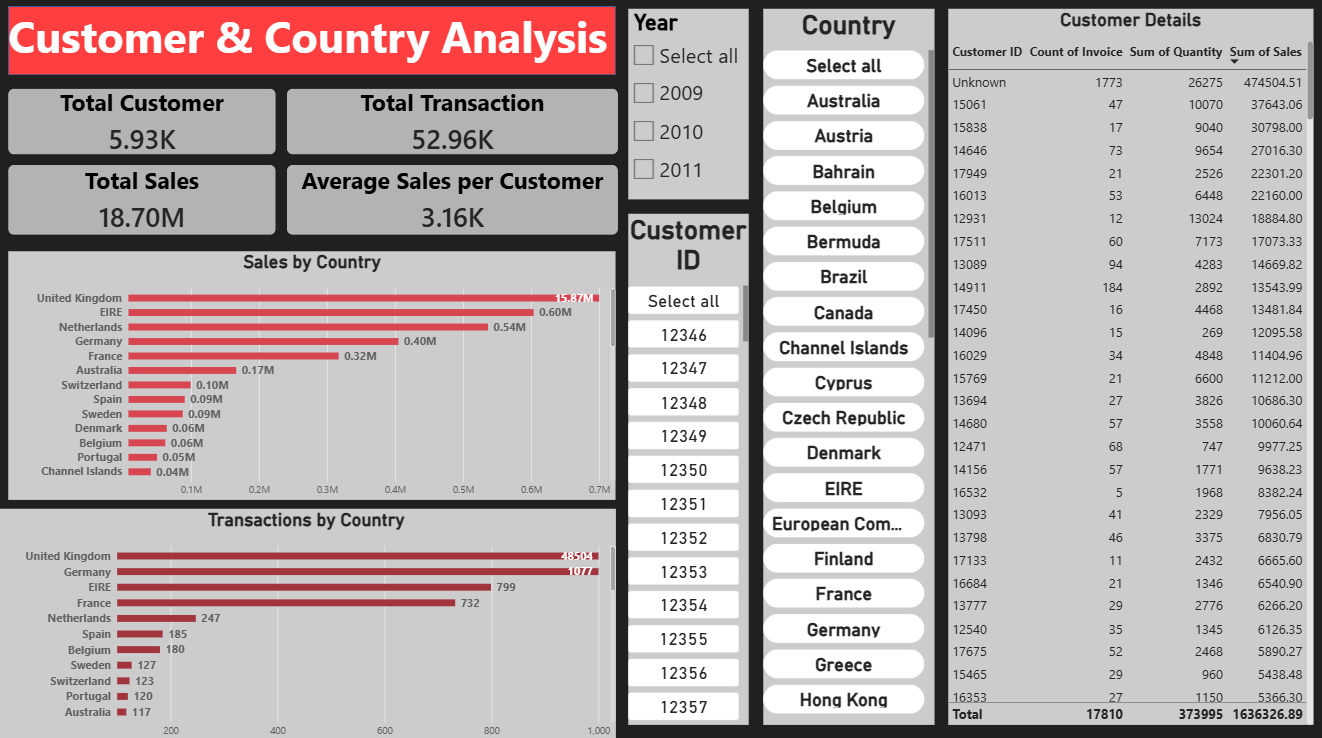

The dashboard page shown, as its layout file describes it:
{"tool":"powerbi","page":{"name":"Page 3","canvas":[1920,1080],"ordinal":2},"visuals":[{"type":"clusteredBarChart","title":"Transactions by Country","fields":{"Category":["Retail_order_cleaned.Country"],"Y":["Count(Retail_order_cleaned.Invoice)"]},"box":[0,743.8,895.8,336.6],"z":0},{"type":"tableEx","title":"Customer Details","fields":{"Values":["Retail_order_cleaned.Customer ID","Retail_order_cleaned.Invoice","Sum(Retail_order_cleaned.Quantity)","Sum(Retail_order_cleaned.Sales)"]},"box":[1377.2,19.9,528.4,1036.9],"z":1000},{"type":"clusteredBarChart","title":"Sales by Country","fields":{"Category":["Retail_order_cleaned.Country"],"Y":["Sum(Retail_order_cleaned.Sales)"]},"box":[16.3,371,879.5,360.1],"z":2000},{"type":"shape","title":"Sales Overview Dashboard","box":[16.3,16.3,879.5,99.5],"z":3000},{"type":"cardVisual","fields":{"Data":["Count(Retail_order_cleaned.Customer ID)"]},"box":[16.3,135.7,387.3,95.9],"z":4000},{"type":"cardVisual","fields":{"Data":["Count(Retail_order_cleaned.Invoice)"]},"box":[419.8,135.7,479.6,95.9],"z":5000},{"type":"cardVisual","fields":{"Data":["Retail_order_cleaned.Average Sales per Customer"]},"box":[419.8,246.1,479.6,101.3],"z":6000},{"type":"cardVisual","fields":{"Data":["Sum(Retail_order_cleaned.Sales)"]},"box":[16.3,246.1,387.3,101.3],"z":8000},{"type":"slicer","fields":{"Values":["Retail_order_cleaned.Year"]},"box":[914,20,174,276],"z":9000},{"type":"advancedSlicerVisual","fields":{"Values":["Retail_order_cleaned.Country"]},"box":[1109.3,19.9,247.9,1036.9],"z":10000},{"type":"advancedSlicerVisual","fields":{"Values":["Retail_order_cleaned.Customer ID"]},"box":[914,316,174,740],"z":10001}]}

Visuals, with their boxes in screenshot pixels (x1, y1, x2, y2), scaled from the page's 1920x1080 canvas onto the 1322x738 screenshot:
"Transactions by Country" clusteredBarChart: 0 508 617 737
"Customer Details" tableEx: 948 14 1312 722
"Sales by Country" clusteredBarChart: 11 254 617 500
"Sales Overview Dashboard" shape: 11 11 617 79
cardVisual - Count(Retail_order_cleaned.Customer ID): 11 93 278 158
cardVisual - Count(Retail_order_cleaned.Invoice): 289 93 619 158
cardVisual - Retail_order_cleaned.Average Sales per Customer: 289 168 619 237
cardVisual - Sum(Retail_order_cleaned.Sales): 11 168 278 237
slicer - Retail_order_cleaned.Year: 629 14 749 202
advancedSlicerVisual - Retail_order_cleaned.Country: 764 14 934 722
advancedSlicerVisual - Retail_order_cleaned.Customer ID: 629 216 749 722
